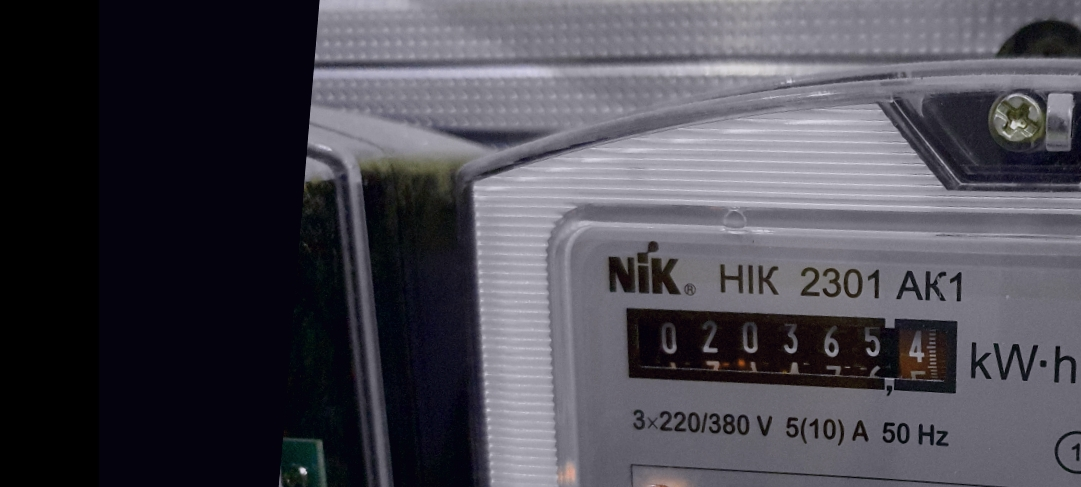0: (657, 319, 681, 354), (739, 318, 761, 355)
2: (697, 317, 722, 354)
3: (780, 318, 801, 355)
4: (906, 327, 928, 363)
5: (861, 324, 884, 357)
6: (820, 321, 843, 358)
screen: (604, 281, 980, 414)
